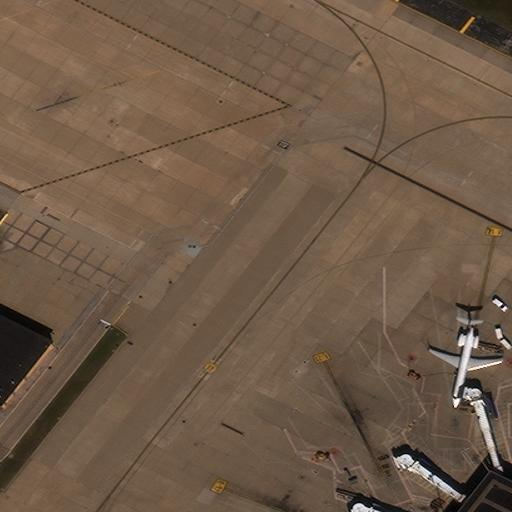Medium Civil Transport: (430, 319, 502, 408)
